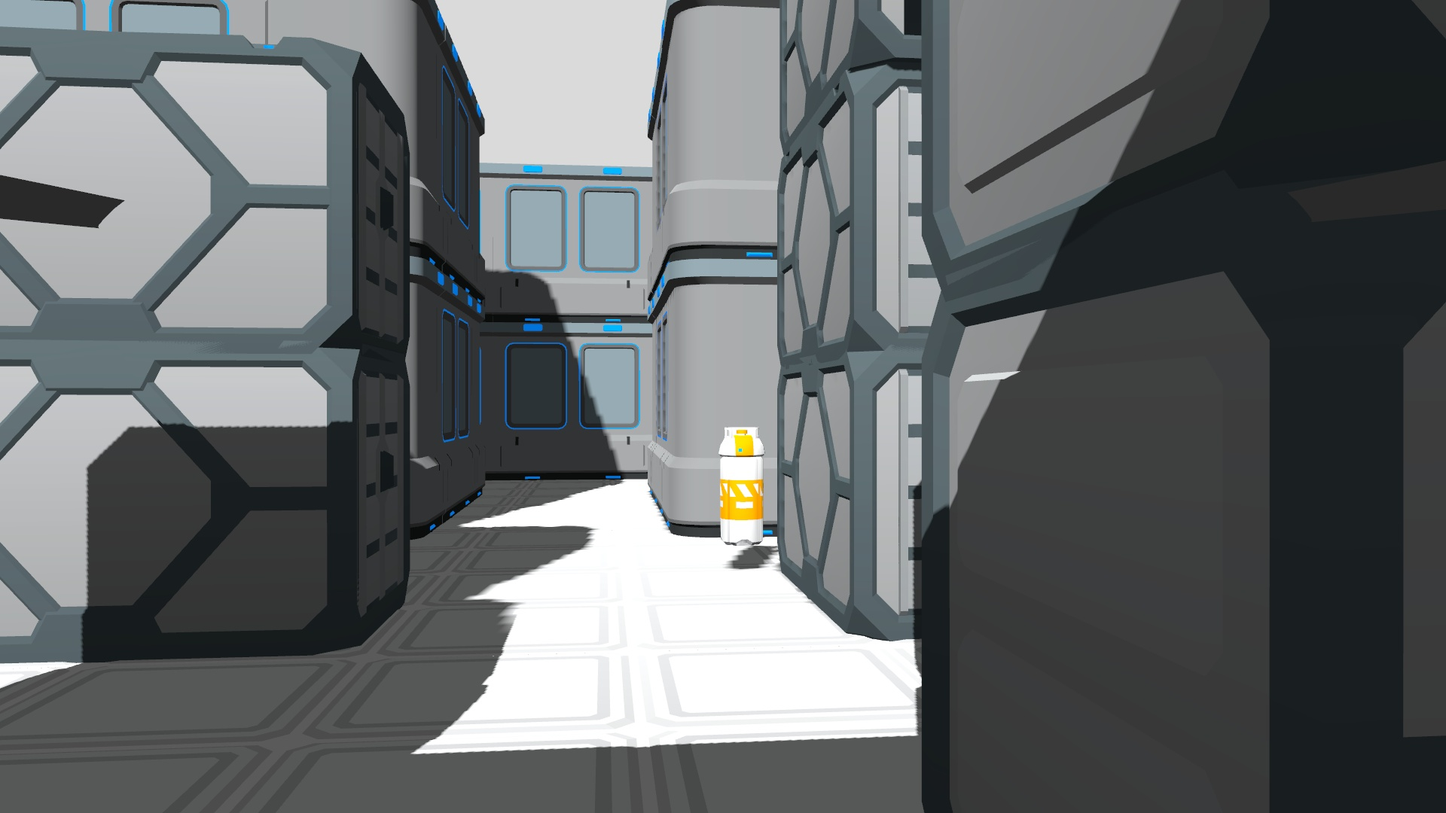yellow_barrel: (715, 422, 769, 551)
